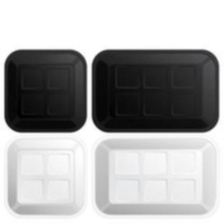foam_box: (89, 46, 222, 136), (90, 132, 222, 220), (1, 47, 88, 135), (2, 134, 88, 220)
